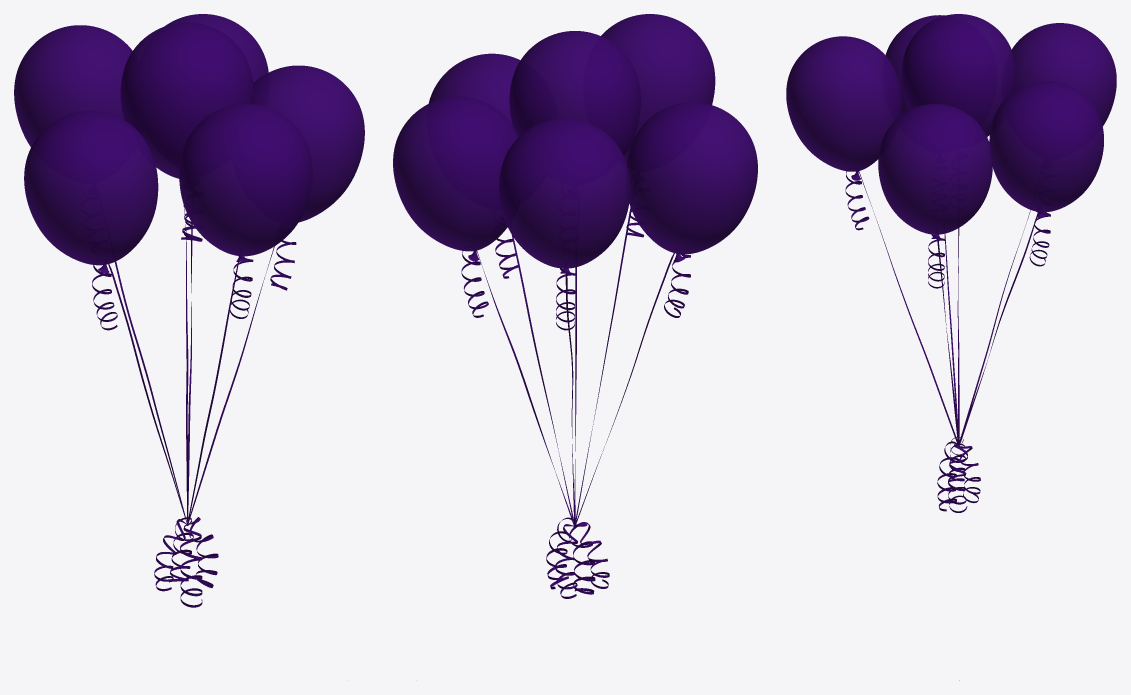
The model's file is cgaxis_models_13_06_fbx.fbx.
3 renders of one model, left to right at view 1: azimuth 30°, elevation 25°; view 2: azimuth 150°, elevation 25°; view 3: azimuth 270°, elevation 25°, orthographic. The views are drawn at different scales.
Parts seen in each view (by area): view 1: cgaxis_models_13_06_01, cgaxis_models_13_06_02; view 2: cgaxis_models_13_06_01, cgaxis_models_13_06_02; view 3: cgaxis_models_13_06_01, cgaxis_models_13_06_02.
Boxes of the visible parts, <box> form: cgaxis_models_13_06_01: <box>14,14,364,273</box>; cgaxis_models_13_06_02: <box>92,205,296,607</box>; cgaxis_models_13_06_01: <box>393,14,757,273</box>; cgaxis_models_13_06_02: <box>461,207,690,598</box>; cgaxis_models_13_06_01: <box>786,14,1116,239</box>; cgaxis_models_13_06_02: <box>845,171,1050,680</box>.
Size of the model in its own units: 30.78 by 62.33 by 31.42.
